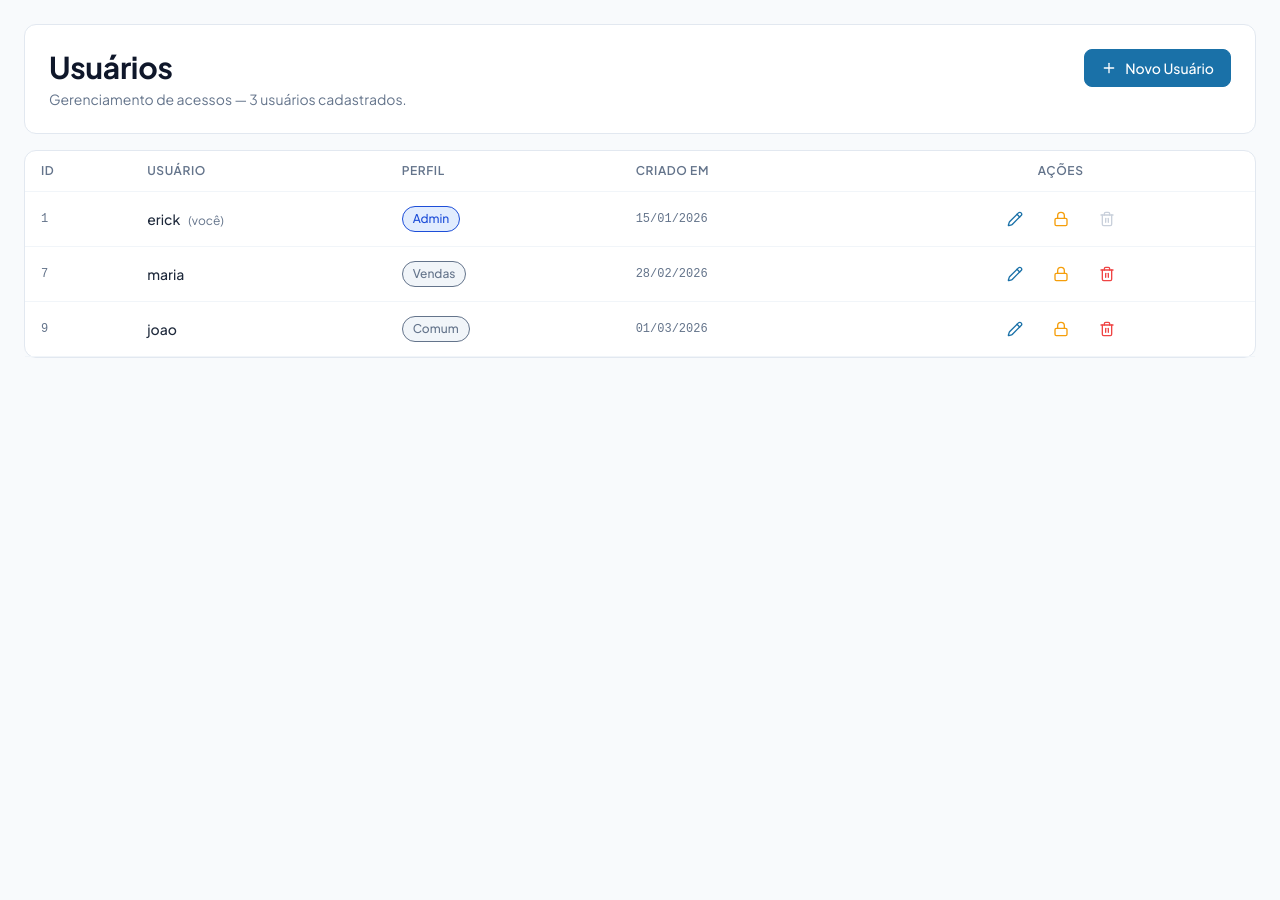
Test: Usuários — modal de criação › abre pelo botão Novo Usuário, com os campos em branco e o perfil comum
expect the table is shown: met, box [25, 151, 1255, 357]
Click the button "Novo Usuário".
click(1158, 68)  # box [1084, 49, 1231, 87]
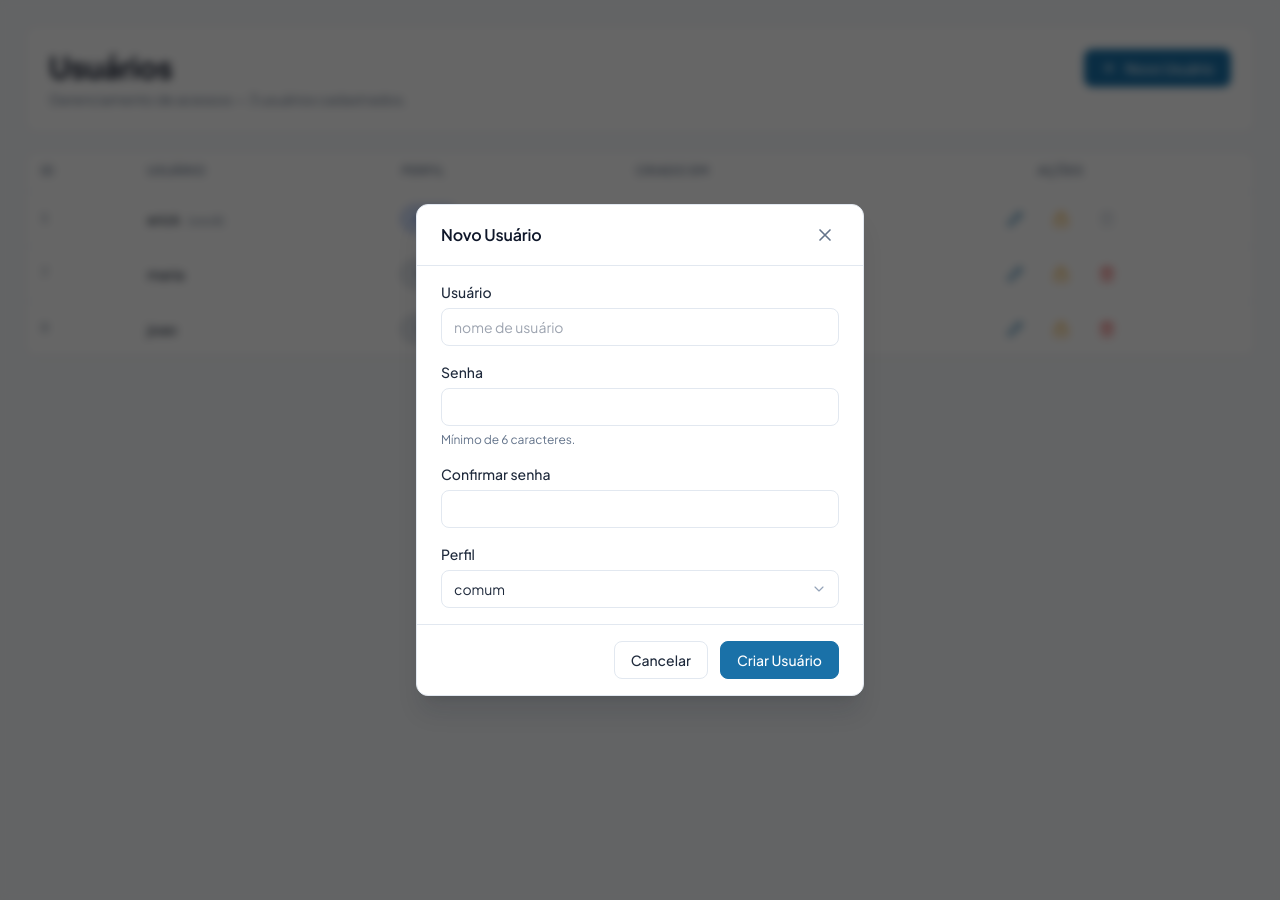
expect the heading "Novo Usuário" is shown: met, box [441, 223, 542, 247]
expect the field labelled "Usuário" is empty: met, box [441, 308, 839, 346]
expect the dropdown labelled "Perfil" shows "comum": met, box [441, 570, 839, 608]
